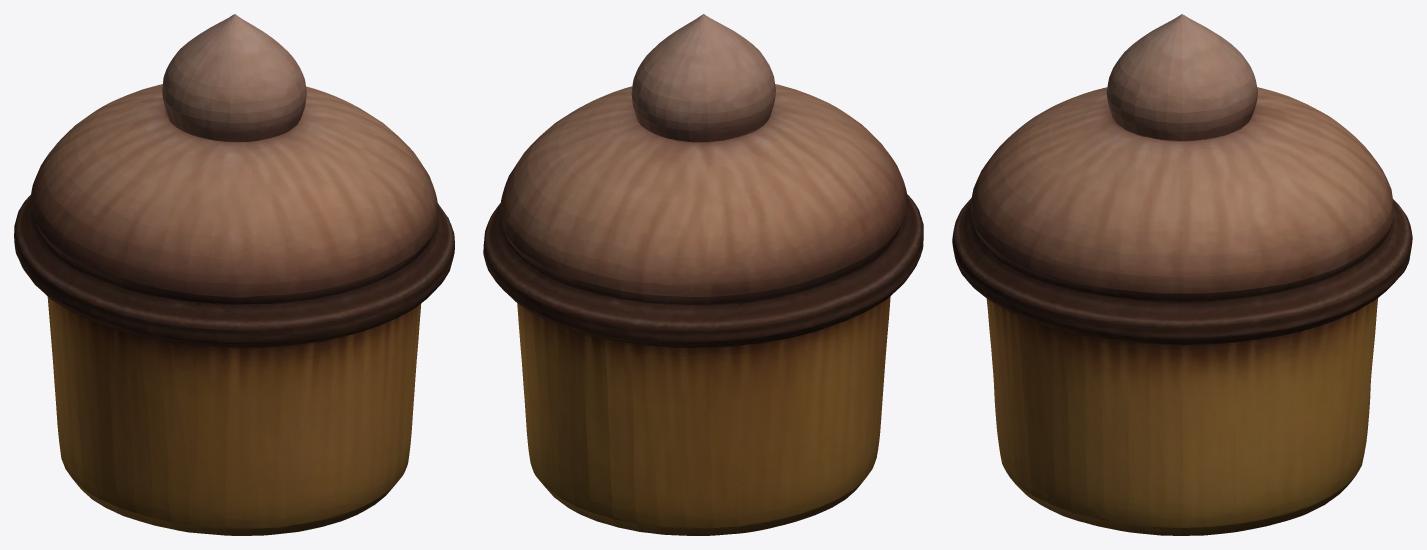
The model's file is item_pastry_2.glb.
The picture shows the model from 3 angles, left to right: view 1: azimuth 30°, elevation 25°; view 2: azimuth 150°, elevation 25°; view 3: azimuth 270°, elevation 25°; orthographic projection.
Parts seen in each view (by area): view 1: geometry_0; view 2: geometry_0; view 3: geometry_0.
Boxes of the visible parts, left/top/right/bottom form: geometry_0: left=14, top=14, right=454, bottom=535; geometry_0: left=483, top=14, right=923, bottom=535; geometry_0: left=952, top=14, right=1412, bottom=535.
Size of the model in its own units: 0.8681 by 0.9986 by 0.9154.
Materials: 1 (1 with a texture image).
